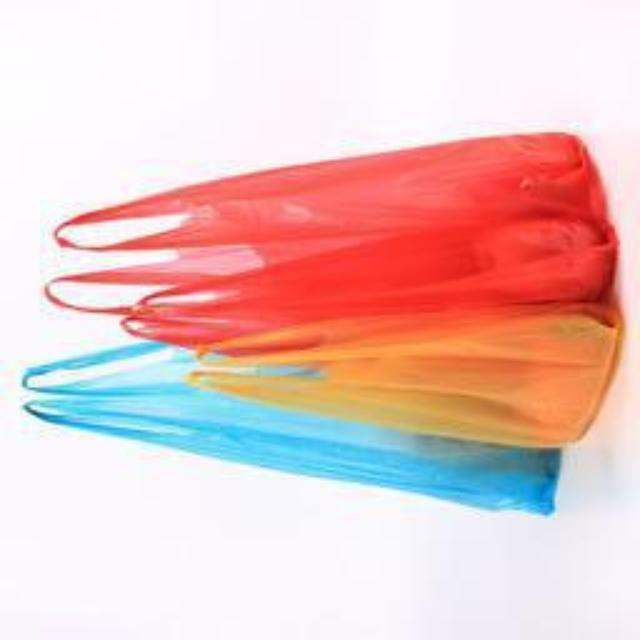Bolsa-de-plastico: (56, 129, 619, 345), (23, 344, 564, 520), (188, 305, 626, 446)
